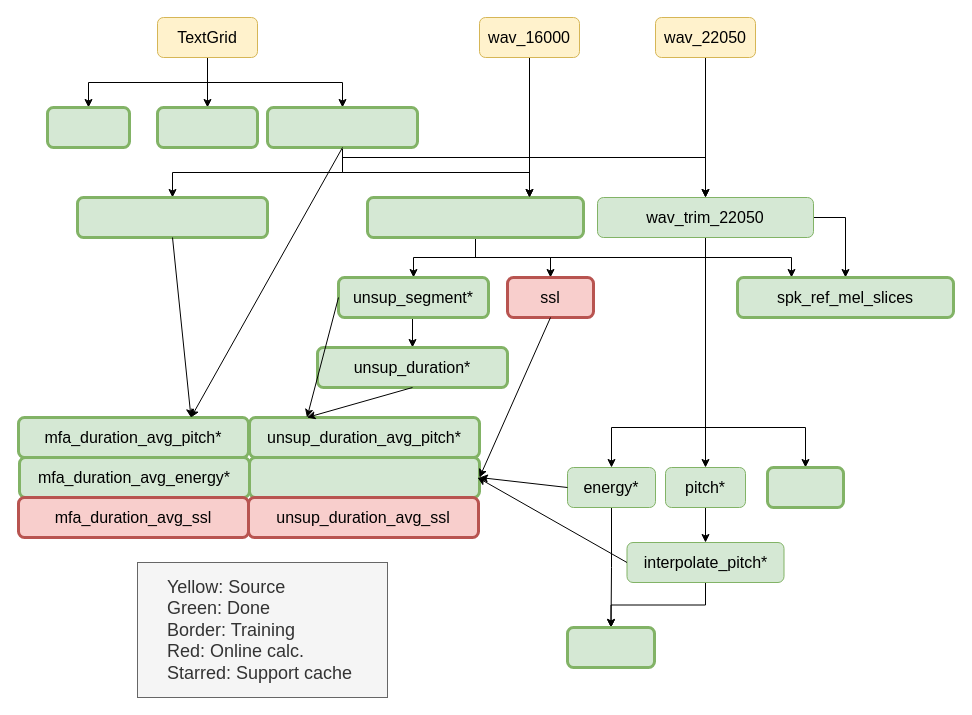
Image size: 972x715. Some labels were removed from this diagram. Each missing label, with the box of its shape:
mel: (766, 466, 844, 508)
mfa_duration*: (76, 196, 268, 238)
mfa_segment*: (266, 106, 418, 148)
phoneme*: (156, 106, 258, 148)
stats: (566, 626, 656, 668)
text*: (46, 106, 130, 148)
unsup_duration_avg_energy*: (248, 456, 480, 498)
wav_trim_16000: (366, 196, 584, 238)
